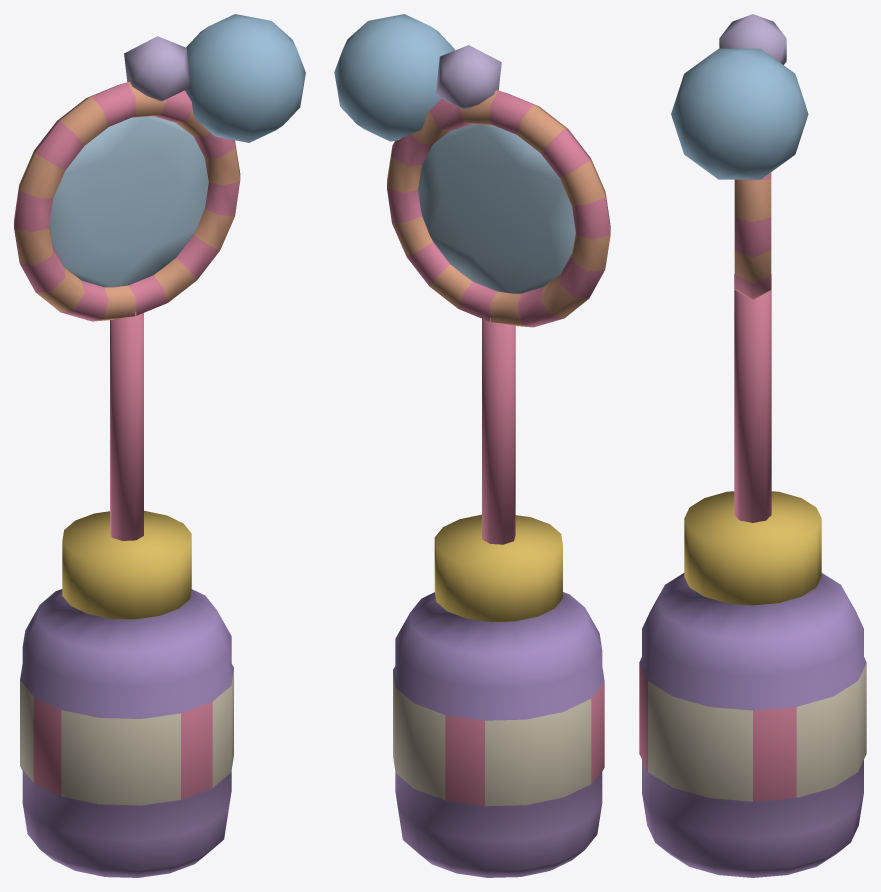
File: pvp_fun_bubbles.fbx
The picture shows the model from 3 angles, left to right: view 1: azimuth 30°, elevation 25°; view 2: azimuth 150°, elevation 25°; view 3: azimuth 270°, elevation 25°; orthographic projection. The views are drawn at different scales.
Parts seen in each view (by area): view 1: pvp_fun_bubbles; view 2: pvp_fun_bubbles; view 3: pvp_fun_bubbles.
Boxes of the visible parts, left/top/right/bottom form: pvp_fun_bubbles: left=14, top=14, right=305, bottom=877; pvp_fun_bubbles: left=334, top=14, right=610, bottom=877; pvp_fun_bubbles: left=639, top=14, right=866, bottom=877.
Bounding box in the file's own units: 1.27 × 3.52 × 0.86.
